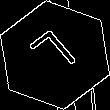L_SE: (26, 26, 84, 84)
